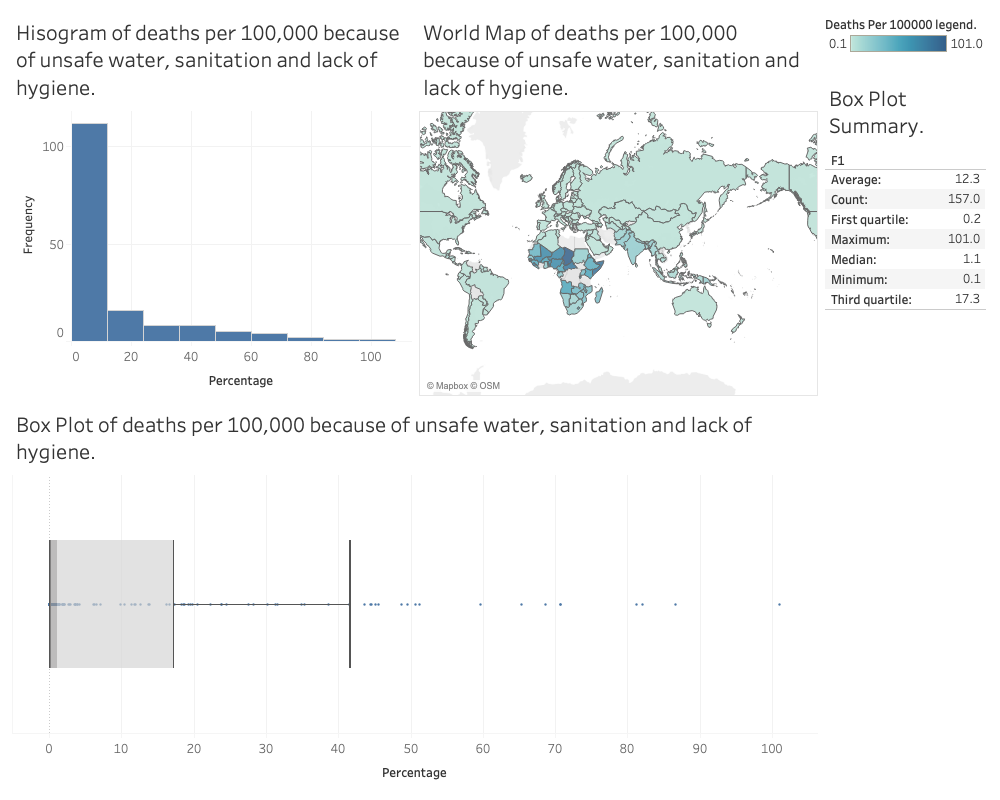

The dashboard page shown, as its layout file describes it:
{"tool":"tableau","page":{"name":"Sanitation Dashboard","canvas":[1000,800],"ordinal":0},"visuals":[{"type":"worksheet","box":[0,0,1000,800]},{"type":"worksheet","param":"horz","box":[8,8,984,784]},{"type":"worksheet","box":[8,8,813,784]},{"type":"worksheet","title":"Histogram","mark":"Automatic","rows":["Year2016"],"cols":["Year2016 (bin)"],"box":[8,8,406.5,392]},{"type":"worksheet","title":"World Map","mark":"Automatic","box":[414.5,8,406.5,392]},{"type":"worksheet","param":"vert","box":[821,8,171,784]},{"type":"worksheet","title":"World Map","mark":"Automatic","param":"[federated.0h89xae0tjul7f1fvrct81609ztf].[sum:Year2016:qk]","box":[821,8,171,65]},{"type":"worksheet","title":"Box Plot Summary","mark":"Automatic","rows":["F1"],"box":[821,73,171,240]},{"type":"worksheet","title":"Box Plot","mark":"Circle","cols":["Year2016"],"box":[8,400,813,392]}]}

Visuals, with their boxes in screenshot pixels (x1, y1, x2, y2), scaled from the page's 1000x800 canvas onto the 1000x800 screenshot:
worksheet: select_region(0, 0, 999, 799)
worksheet: select_region(8, 8, 992, 792)
worksheet: select_region(8, 8, 821, 792)
"Histogram" worksheet: select_region(8, 8, 414, 400)
"World Map" worksheet: select_region(414, 8, 821, 400)
worksheet: select_region(821, 8, 992, 792)
"World Map" worksheet: select_region(821, 8, 992, 73)
"Box Plot Summary" worksheet: select_region(821, 73, 992, 313)
"Box Plot" worksheet (Circle marks): select_region(8, 400, 821, 792)
